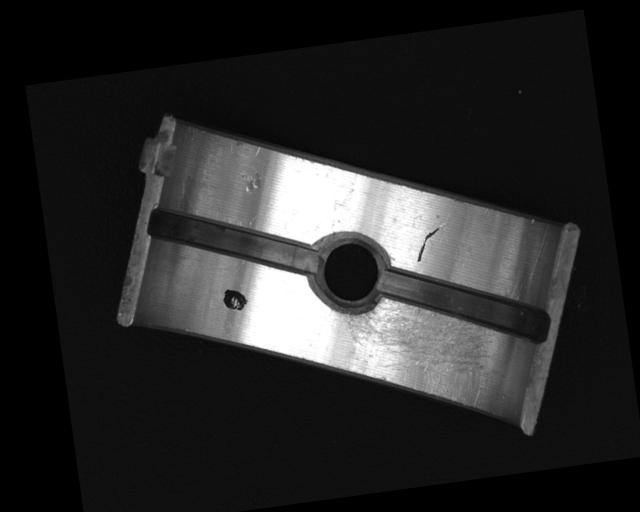blot: (221, 286, 249, 313)
bruise: (237, 167, 266, 195)
gap: (373, 247, 552, 363), (146, 191, 318, 295)
hole: (307, 230, 393, 316)
nick: (412, 226, 445, 265)
scratch: (337, 280, 503, 423)
